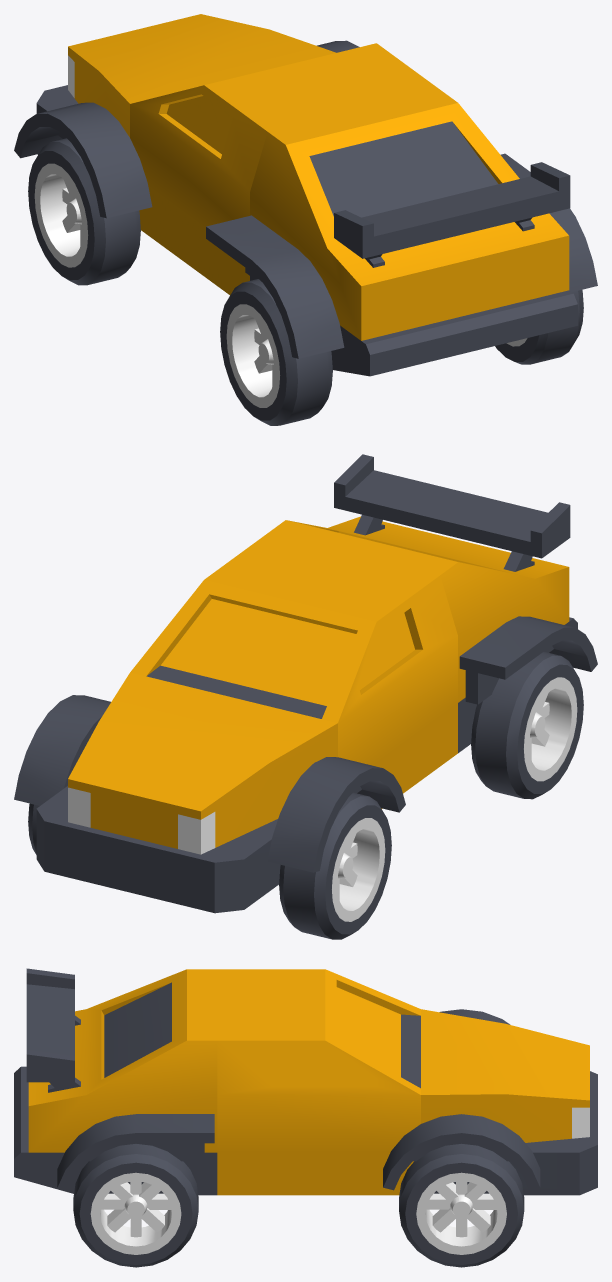
Rendered from Car_01.fbx.
3 views of the same model, one above another, from view 1: azimuth 30°, elevation 25°; view 2: azimuth 150°, elevation 25°; view 3: azimuth 270°, elevation 25° (orthographic). The views are drawn at different scales.
Visible parts, largest first — view 1: trunk_square_5, windshield_default_1, hood_truck_7, wheel_spokes%_13, wheel_spokes%_16, detail_spoiler_10, detail_fenderHalfLong%_22, detail_fender_23, wheel_spokes%_19, detail_fenderHalfLong%_25; view 2: windshield_default_1, hood_truck_7, trunk_square_5, wheel_spokes%_16, detail_spoiler_10, wheel_spokes%_13, detail_fender_23, detail_fenderHalfLong%_22, detail_fender_24; view 3: windshield_default_1, trunk_square_5, hood_truck_7, wheel_spokes%_19, wheel_spokes%_18, detail_spoiler_10, detail_fenderHalfLong%_25, detail_fender_24, detail_fender_23.
Part boxes in pixels (box(x1,y1,x2,y2)): trunk_square_5: box(250, 90, 577, 376); windshield_default_1: box(130, 43, 439, 295); hood_truck_7: box(36, 14, 336, 154); wheel_spokes%_13: box(28, 138, 140, 285); wheel_spokes%_16: box(220, 279, 332, 425); detail_spoiler_10: box(334, 162, 570, 267); detail_fenderHalfLong%_22: box(206, 215, 344, 358); detail_fender_23: box(14, 102, 152, 218); wheel_spokes%_19: box(495, 290, 583, 364); detail_fenderHalfLong%_25: box(500, 153, 597, 291); windshield_default_1: box(130, 533, 457, 808); hood_truck_7: box(36, 672, 337, 913); trunk_square_5: box(268, 516, 577, 753); wheel_spokes%_16: box(471, 652, 583, 799); detail_spoiler_10: box(334, 454, 570, 571); wheel_spokes%_13: box(279, 792, 391, 939); detail_fender_23: box(267, 757, 405, 872); detail_fenderHalfLong%_22: box(459, 616, 597, 704); detail_fender_24: box(14, 695, 110, 805); windshield_default_1: box(217, 969, 420, 1195); trunk_square_5: box(14, 969, 217, 1195); hood_truck_7: box(421, 1009, 597, 1195); wheel_spokes%_19: box(73, 1144, 198, 1267); wheel_spokes%_18: box(399, 1143, 524, 1267); detail_spoiler_10: box(26, 968, 80, 1092); detail_fenderHalfLong%_25: box(57, 1114, 214, 1190); detail_fender_24: box(383, 1114, 540, 1190); detail_fender_23: box(439, 1009, 510, 1024).
Bounding box in the file's own units: 14.4 × 11.08 × 28.7.
